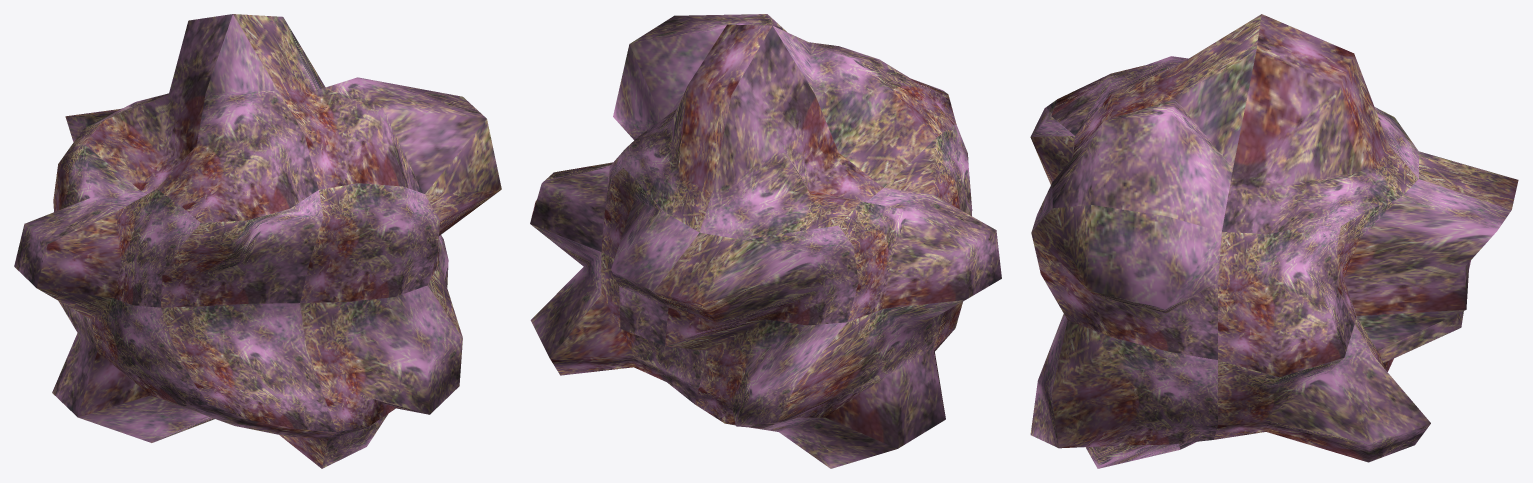
Rendered from shewibgugm_projectile.obj.
3 renders of one model, left to right at view 1: azimuth 30°, elevation 25°; view 2: azimuth 150°, elevation 25°; view 3: azimuth 270°, elevation 25°, orthographic. The views are drawn at different scales.
Parts seen in each view (by area): view 1: projectile_de_Base; view 2: projectile_de_Base; view 3: projectile_de_Base.
Part boxes in pixels (x1=…): projectile_de_Base: x1=14, y1=14, x2=501, y2=468; projectile_de_Base: x1=530, y1=14, x2=1001, y2=468; projectile_de_Base: x1=1030, y1=14, x2=1518, y2=468.
Size of the model in its own units: 96.58 by 84.5 by 85.81.
Materials: 1 (1 with a texture image).
